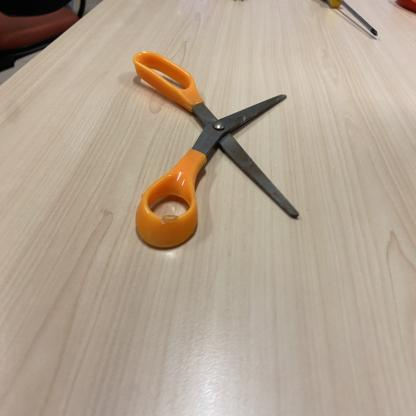scissors: (133, 50, 298, 254)
